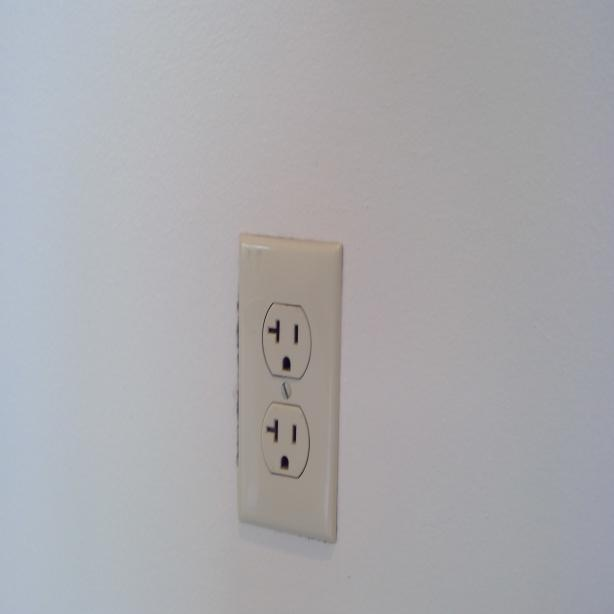typeb: (260, 298, 310, 376), (262, 408, 305, 474)
